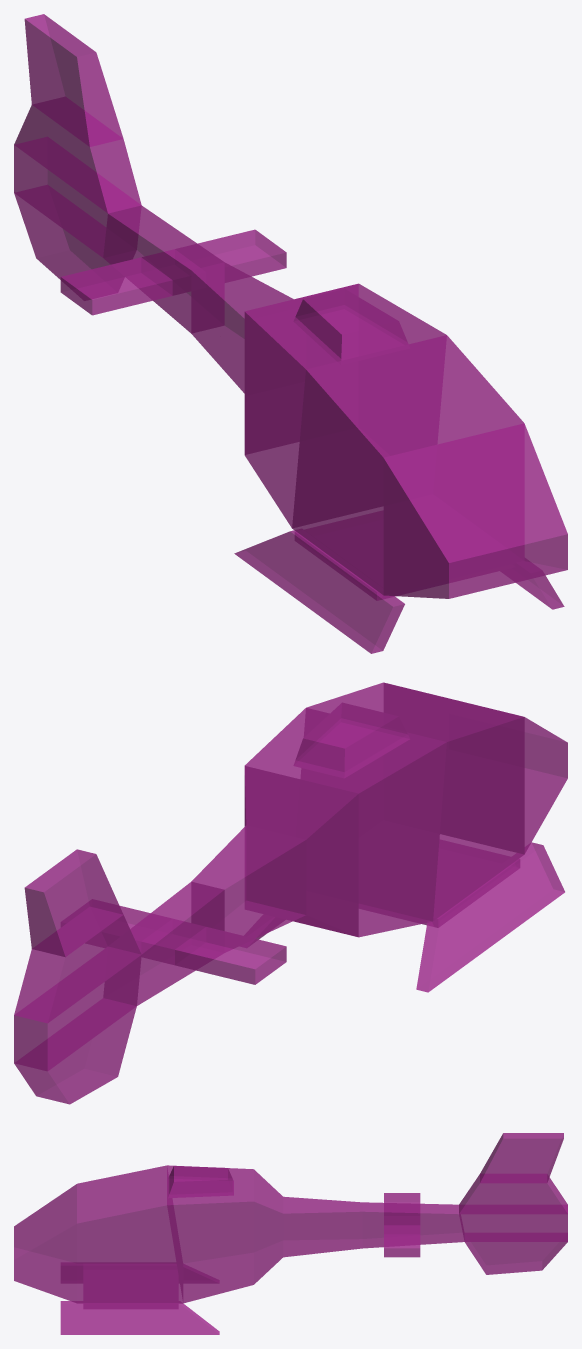
The model's file is SM_Veh_Helicopter_01_Collision.fbx.
The picture shows the model from 3 angles, top to bottom: view 1: azimuth 30°, elevation 25°; view 2: azimuth 150°, elevation 25°; view 3: azimuth 270°, elevation 25°; orthographic projection. The views are drawn at different scales.
Parts seen in each view (by area): view 1: SM_Veh_Helicopter_01_Collision; view 2: SM_Veh_Helicopter_01_Collision; view 3: SM_Veh_Helicopter_01_Collision.
Part boxes in pixels (x1,y1,x2,y2): SM_Veh_Helicopter_01_Collision: (14,14,567,653); SM_Veh_Helicopter_01_Collision: (14,682,567,1104); SM_Veh_Helicopter_01_Collision: (14,1133,567,1334).
Bounding box in the file's own units: 290 × 422 × 1234.
